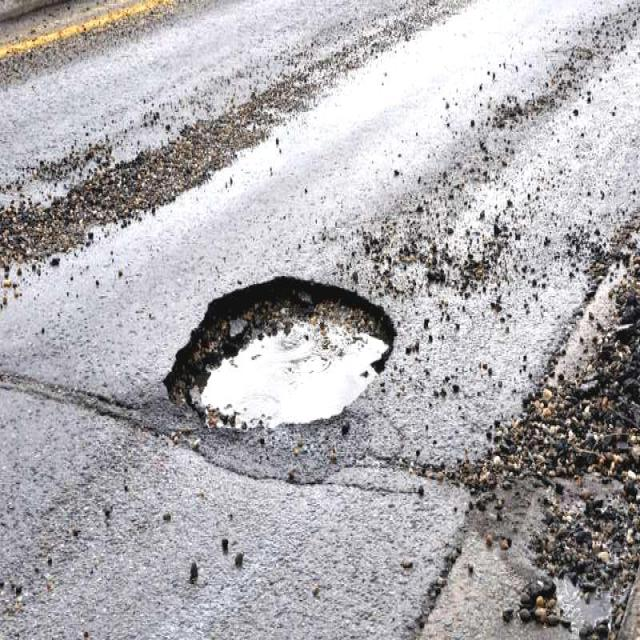pothole: (164, 270, 398, 430)
